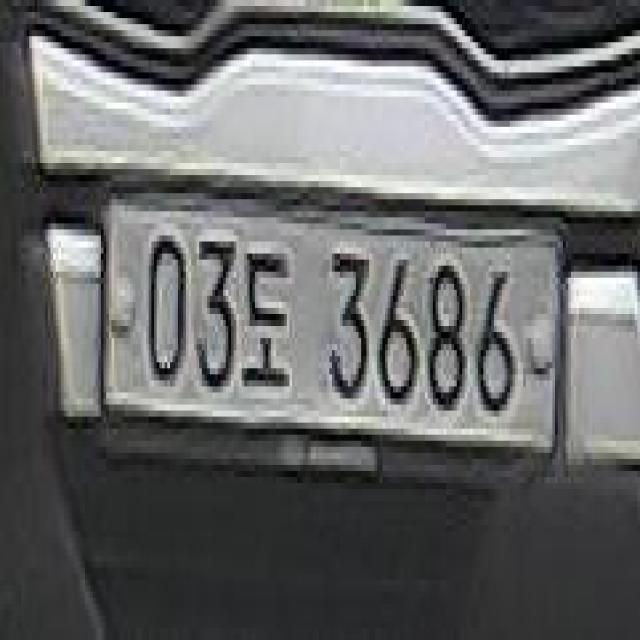illegal_plate: (93, 177, 568, 499)
